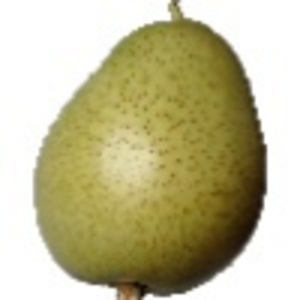pera: (32, 1, 269, 300)
